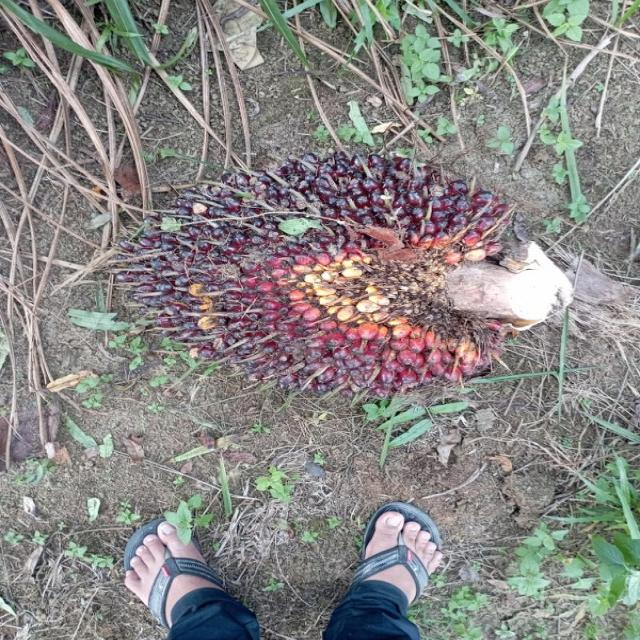fraksi 00: (113, 136, 509, 402)
